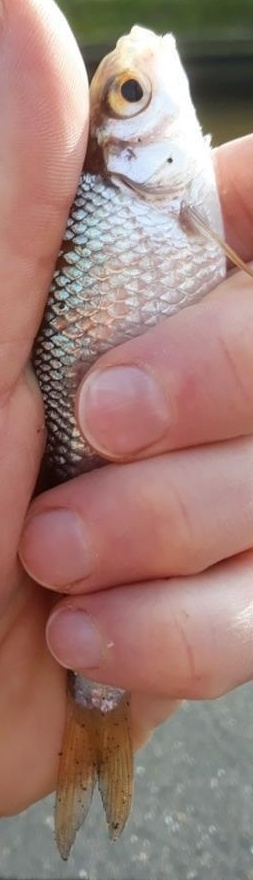Rutilus rutilus: (20, 20, 233, 860)
